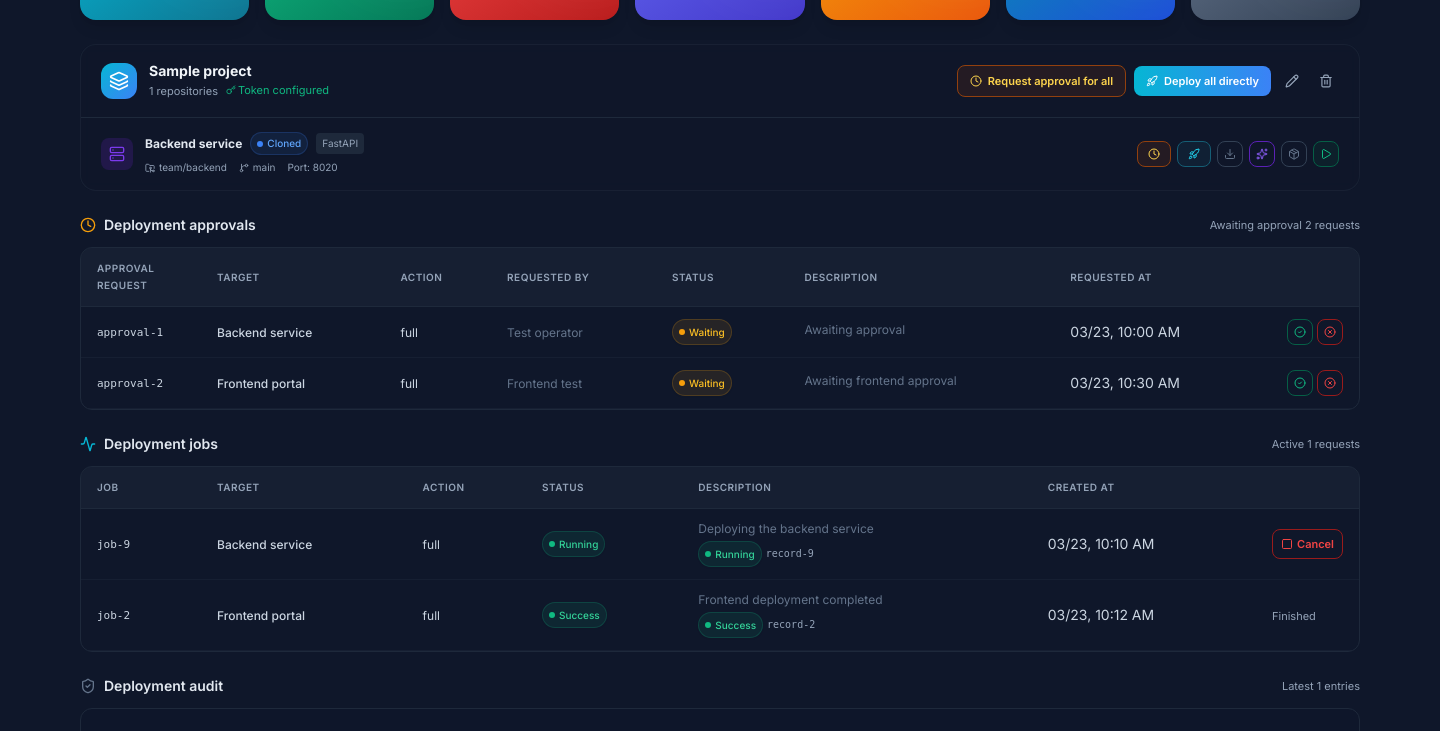
Test: DeployPage › starts deployment tracking and shows progress after approval
(page scrolled)
Expected: the heading "Sample project" is shown, [149,62,252,79]
Click the button titled "Approve" in the row of "approval-1". click: (1300, 332)
box: [1287,319,1313,345]
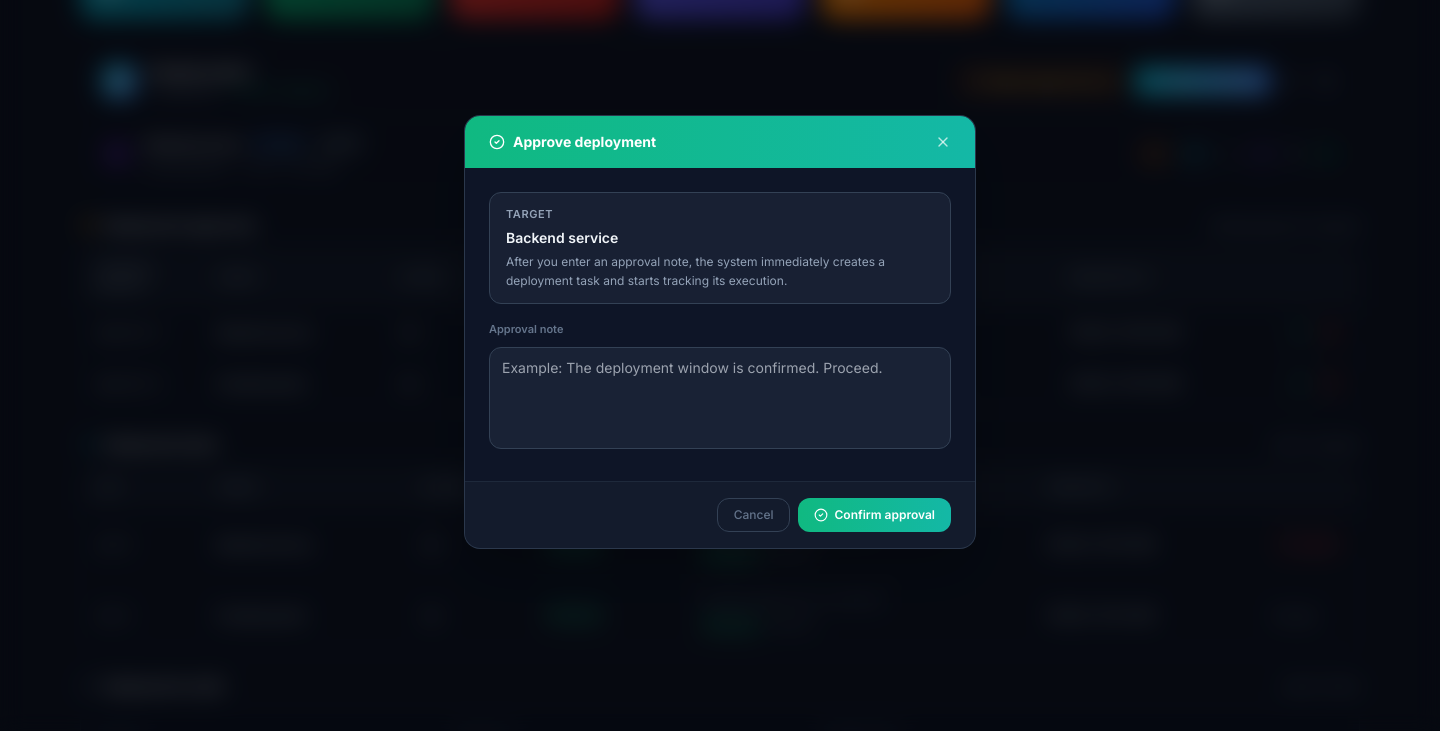
Expected: the heading "Approve deployment" is shown, [489,132,656,152]
Type "Window confirmed" into the text box with placeholder "Example: The deployment window is confirmed. Proceed.". click: (720, 398)
box: [489,347,951,449]
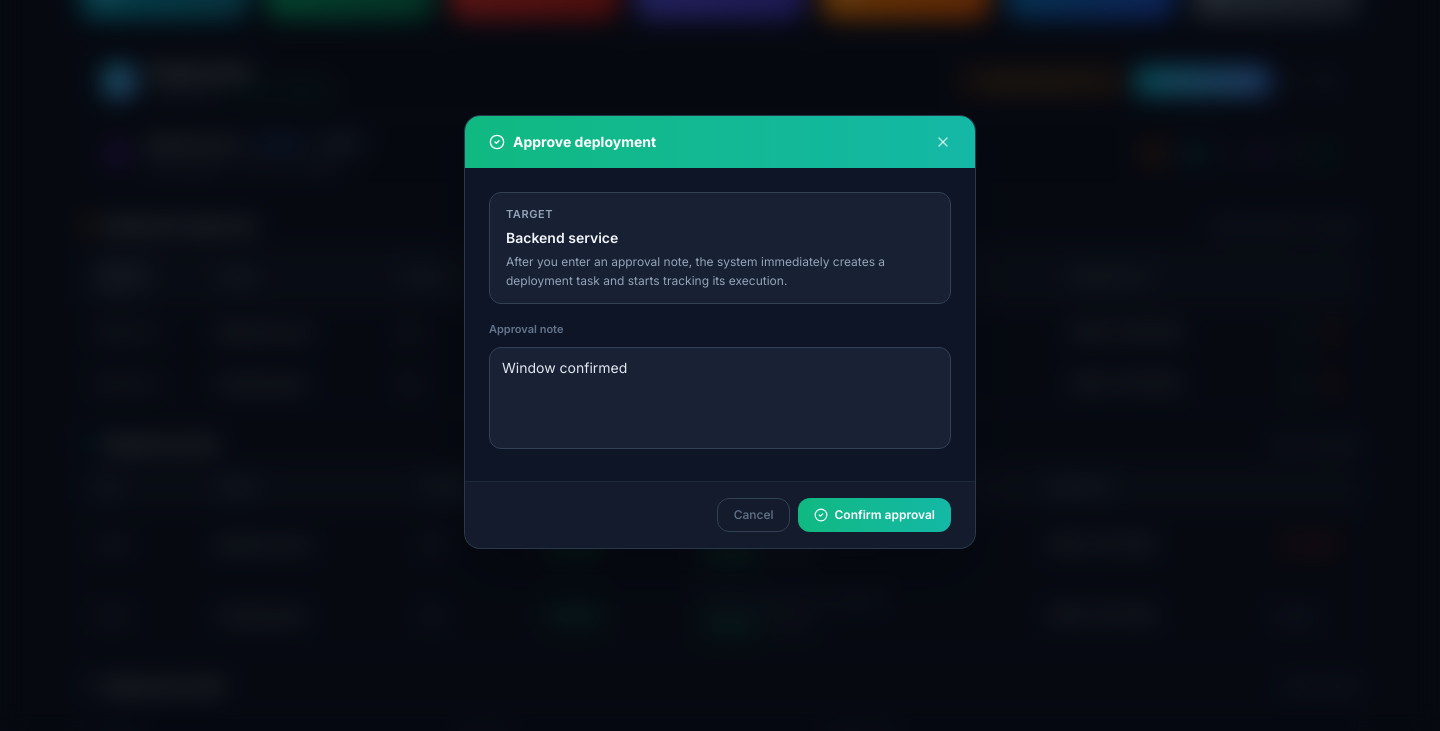
Click the button "Confirm approval". click: (875, 515)
box: [798,498,951,532]
Wait 2000 ms
(page scrolled)
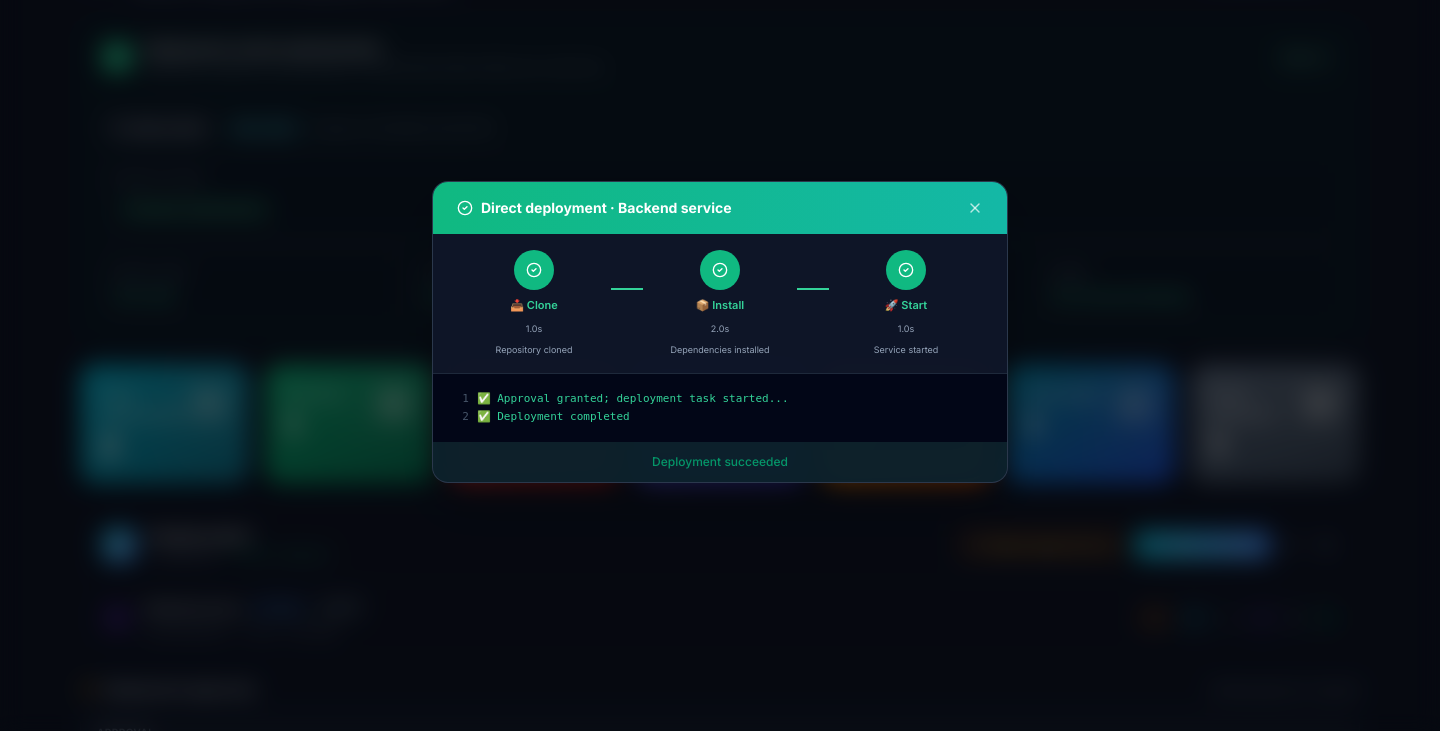
Expected: the heading "Direct deployment · Backend service" is shown, [457,198,732,218]
Expected: the text "✅ Approval granted; deployment task started..." is shown, [477,392,789,405]
Expected: the text "✅ Deployment completed" is shown, [477,410,630,423]
